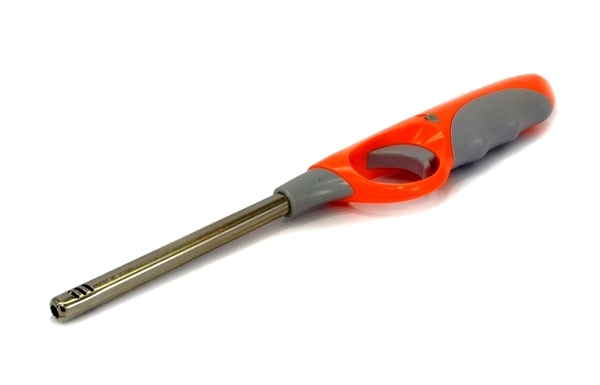Nonrec_Other: (25, 64, 580, 333)
